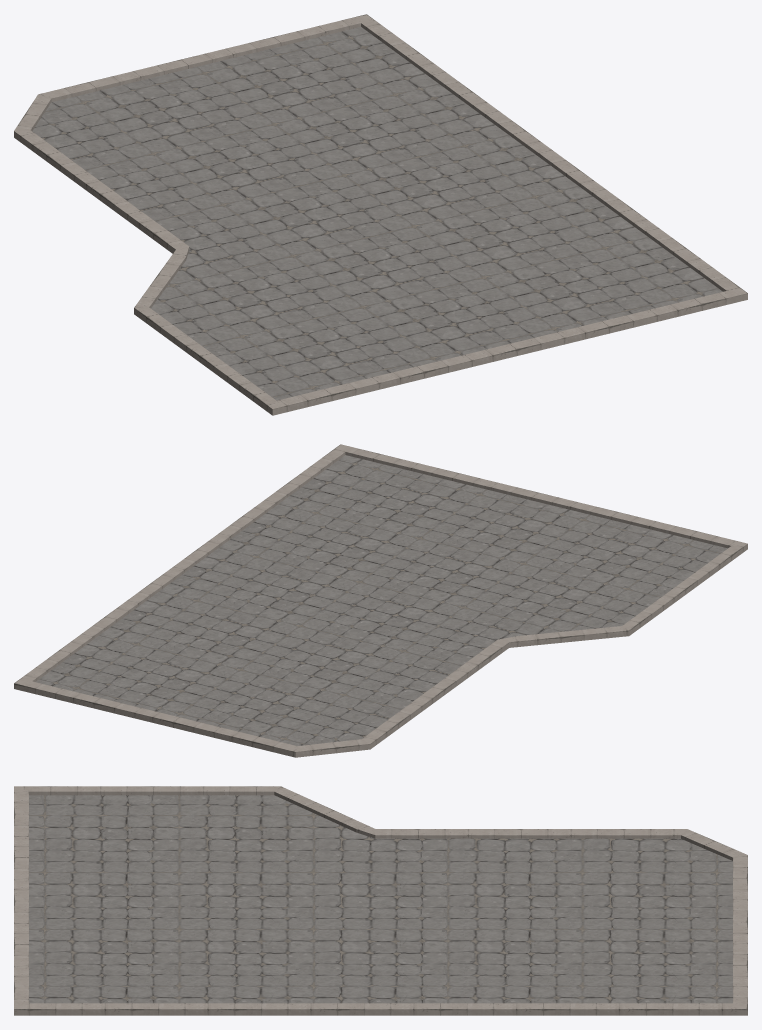
File: TownGroundTile_P.fbx
The picture shows the model from 3 angles, top to bottom: view 1: azimuth 30°, elevation 25°; view 2: azimuth 150°, elevation 25°; view 3: azimuth 270°, elevation 25°; orthographic projection. The views are drawn at different scales.
Parts seen in each view (by area): view 1: TownGroundTile_P; view 2: TownGroundTile_P; view 3: TownGroundTile_P.
Part boxes in pixels (bbox=[...]): TownGroundTile_P: bbox=[14, 14, 747, 415]; TownGroundTile_P: bbox=[14, 444, 747, 757]; TownGroundTile_P: bbox=[14, 786, 747, 1015].
Size of the model in its own units: 1537 by 20.3 by 2135.
Materials: 2 (2 with a texture image).
